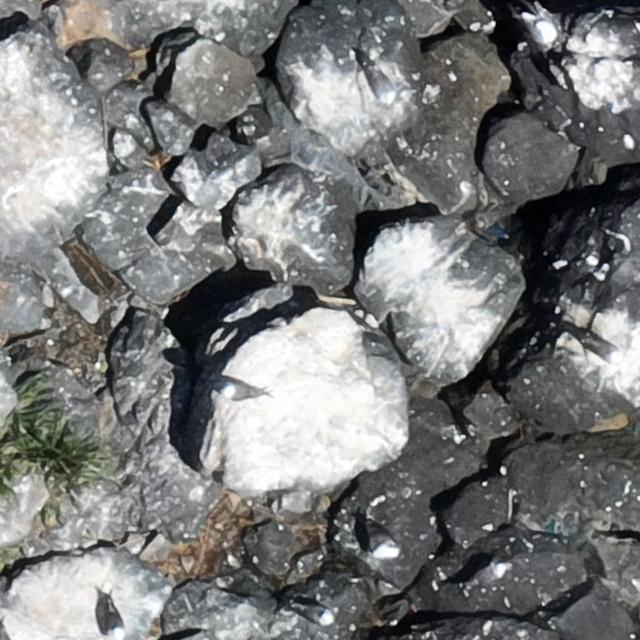F: (354, 51, 396, 103)
umineko: (363, 514, 406, 558), (526, 14, 563, 44), (468, 564, 504, 588), (585, 340, 619, 360), (298, 605, 332, 624), (221, 382, 254, 399), (106, 606, 124, 637)
